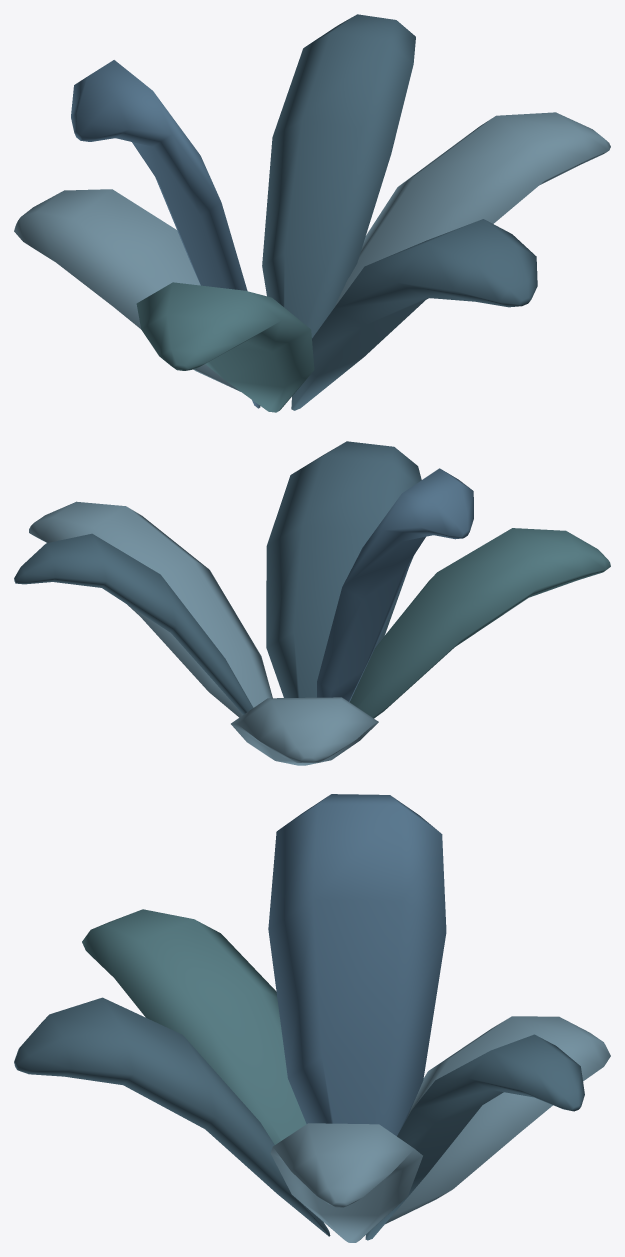
The model's file is small_grass_03.glb.
3 renders of one model, top to bottom at view 1: azimuth 30°, elevation 25°; view 2: azimuth 150°, elevation 25°; view 3: azimuth 270°, elevation 25°, orthographic. The views are drawn at different scales.
Parts seen in each view (by area): view 1: small_grass_03; view 2: small_grass_03; view 3: small_grass_03.
Boxes of the visible parts, x1=… form: small_grass_03: x1=14, y1=14, x2=610, y2=412; small_grass_03: x1=14, y1=441, x2=610, y2=765; small_grass_03: x1=14, y1=794, x2=610, y2=1242.
Bounding box in the file's own units: 0.6224 × 0.3816 × 0.5765.
